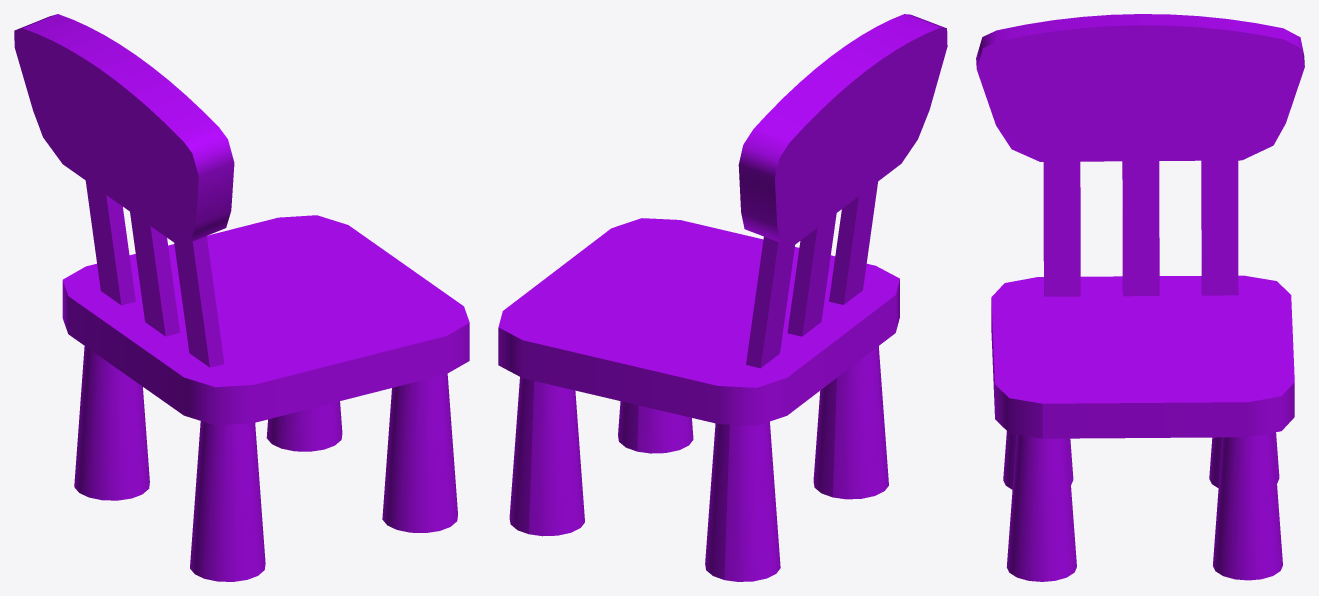
File: Chair_Toddler_1_Purple_Mesh.fbx
3 renders of one model, left to right at view 1: azimuth 30°, elevation 25°; view 2: azimuth 150°, elevation 25°; view 3: azimuth 270°, elevation 25°, orthographic. The views are drawn at different scales.
Parts seen in each view (by area): view 1: Chair1_Purple; view 2: Chair1_Purple; view 3: Chair1_Purple.
Boxes of the visible parts, bbox=[...] form: Chair1_Purple: bbox=[14, 14, 469, 581]; Chair1_Purple: bbox=[498, 14, 947, 581]; Chair1_Purple: bbox=[976, 14, 1304, 581].
Bounding box in the file's own units: 101 × 148 × 101.
